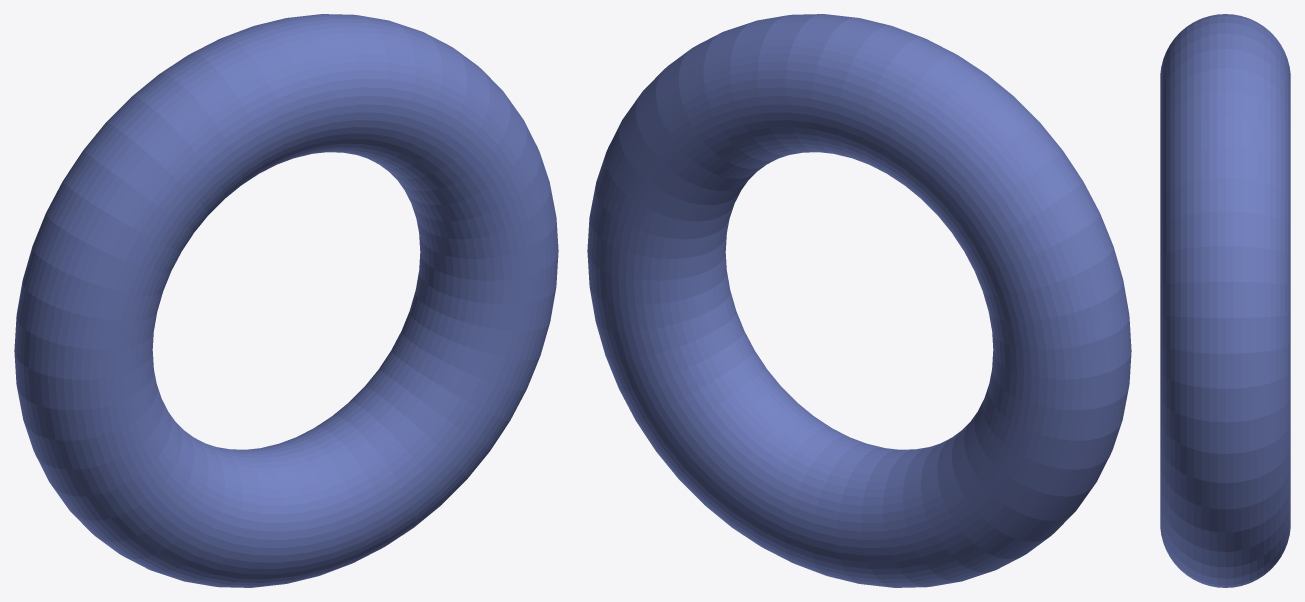
3 renders of one model, left to right at view 1: azimuth 30°, elevation 25°; view 2: azimuth 150°, elevation 25°; view 3: azimuth 270°, elevation 25°, orthographic. The views are drawn at different scales.
Visible parts, largest first — view 1: world; view 2: world; view 3: world.
Boxes of the visible parts, x1,y1,x2,y2 form: world: [14, 14, 558, 587]; world: [587, 14, 1131, 587]; world: [1160, 14, 1290, 587].
Bounding box in the file's own units: 18.13 × 18.1 × 4.13.
